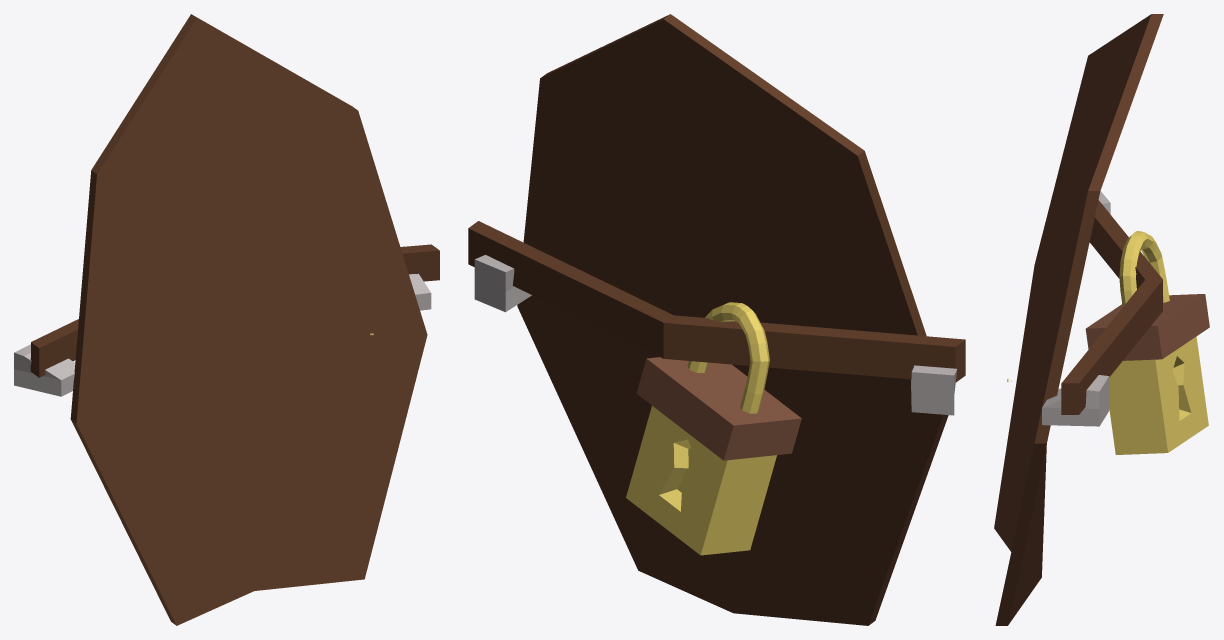
File: openDoor.glb
3 views of the same model, side by side, from view 1: azimuth 30°, elevation 25°; view 2: azimuth 150°, elevation 25°; view 3: azimuth 270°, elevation 25° (orthographic). The views are drawn at different scales.
Visible parts, largest first — view 1: porte, planche, cubeG; view 2: porte, cadenas, planche, cubeG, cubeD; view 3: porte, cadenas, planche, cubeD.
Boxes of the visible parts, <box> form: porte: <box>70,14,427,625</box>; planche: <box>30,244,439,377</box>; cubeG: <box>14,344,75,396</box>; porte: <box>517,14,948,625</box>; cadenas: <box>626,302,801,555</box>; planche: <box>468,221,965,382</box>; cubeG: <box>911,365,957,415</box>; cubeD: <box>474,255,531,312</box>; porte: <box>994,14,1163,625</box>; cadenas: <box>1085,230,1209,454</box>; planche: <box>1061,200,1162,414</box>; cubeD: <box>1042,375,1109,426</box>.
Size of what is drawn, in the model's own units: 4.63 by 5.74 by 1.99.
2 materials, 1 textured.
